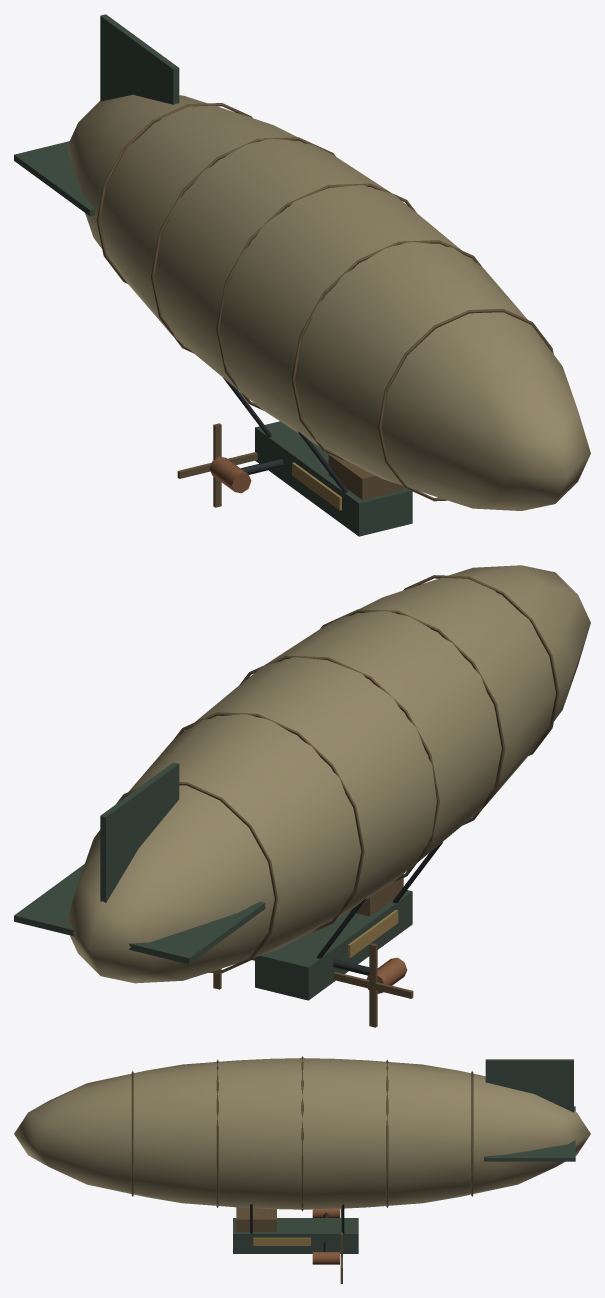
The model's file is airship.glb.
3 views of the same model, one above another, from view 1: azimuth 30°, elevation 25°; view 2: azimuth 150°, elevation 25°; view 3: azimuth 270°, elevation 25° (orthographic). The views are drawn at different scales.
Visible parts, largest first — view 1: body, propeller; view 2: body, propeller; view 3: body.
Part boxes in pixels (x1,y1,x2,y2): body: (14, 14, 590, 536); propeller: (177, 423, 257, 507); body: (14, 565, 590, 1000); propeller: (333, 943, 413, 1027); body: (14, 1056, 590, 1264).
Size of the model in its own units: 4.8 by 6.5 by 17.
